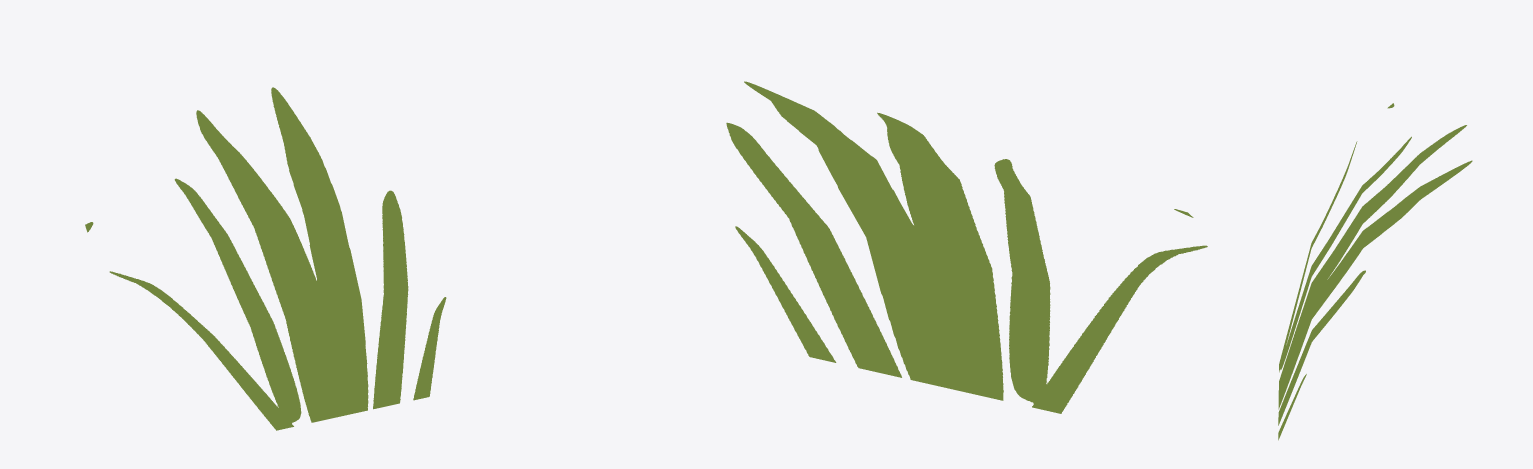
File: SM_Grass_01.fbx
3 renders of one model, left to right at view 1: azimuth 30°, elevation 25°; view 2: azimuth 150°, elevation 25°; view 3: azimuth 270°, elevation 25°, orthographic. The views are drawn at different scales.
Parts seen in each view (by area): view 1: SM_Grass_01; view 2: SM_Grass_01; view 3: SM_Grass_01.
Boxes of the visible parts, box(x1,y1,x2,y2) form: SM_Grass_01: box(85, 87, 446, 430); SM_Grass_01: box(726, 81, 1207, 413); SM_Grass_01: box(1278, 103, 1472, 440).
Bounding box in the file's own units: 0.2605 × 0.192 × 0.1472.
1 material, 1 textured.
